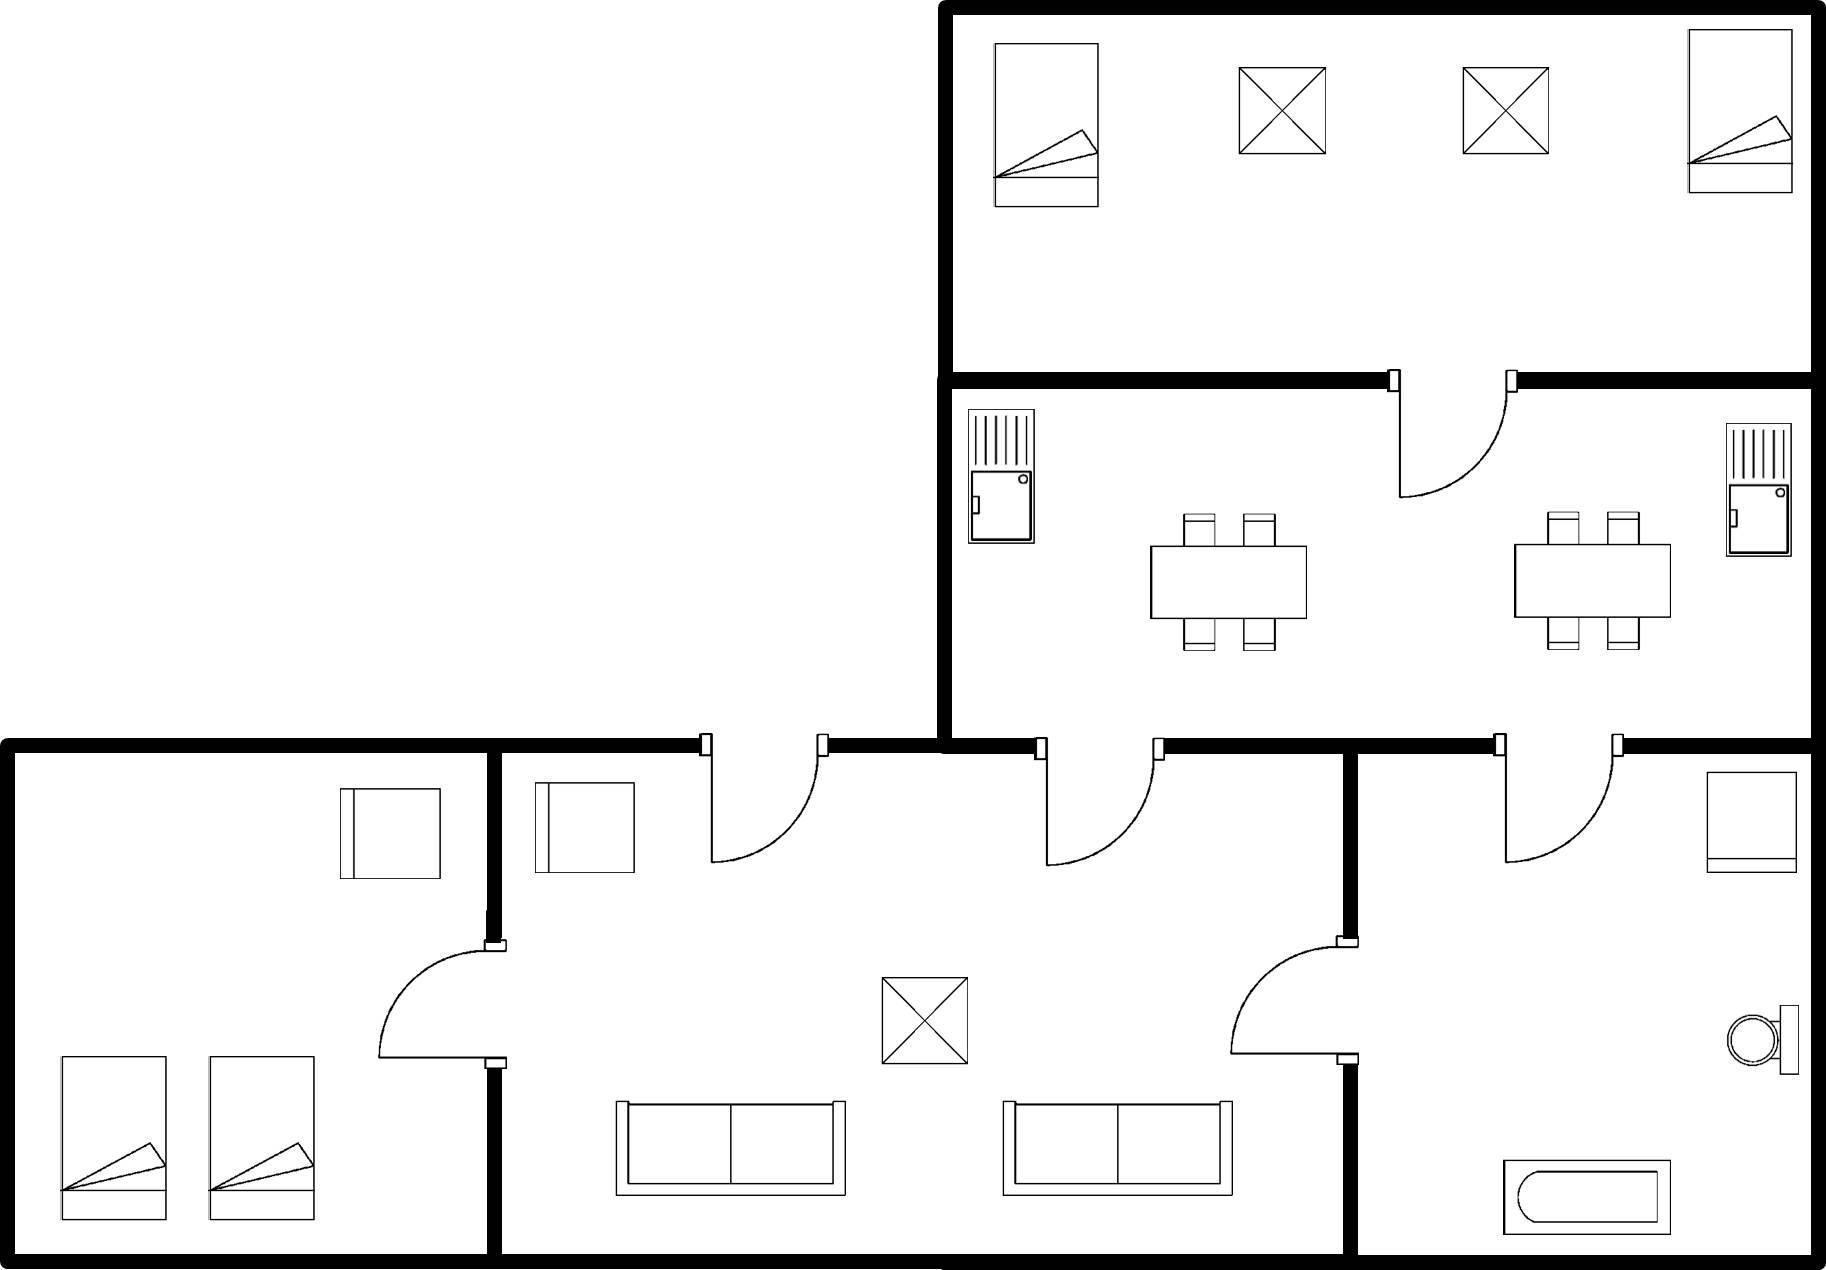bed: (198, 1044, 330, 1231), (50, 1044, 176, 1228), (981, 33, 1109, 215), (1676, 19, 1798, 205)
dining_table: (1499, 500, 1678, 662), (1139, 502, 1315, 662)
sink: (1716, 415, 1800, 566), (963, 398, 1043, 552)
sofa: (604, 1090, 855, 1208), (993, 1090, 1238, 1205)
toilet: (1712, 994, 1807, 1085)
tub: (1493, 1151, 1680, 1245)
